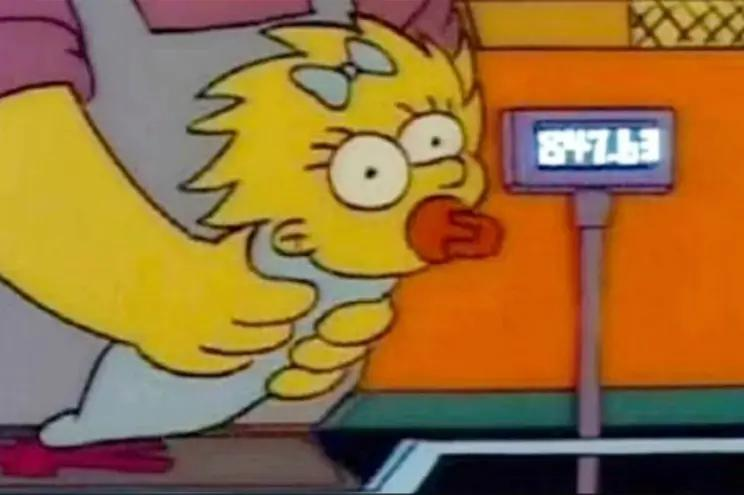Maggie: (180, 17, 526, 300)
